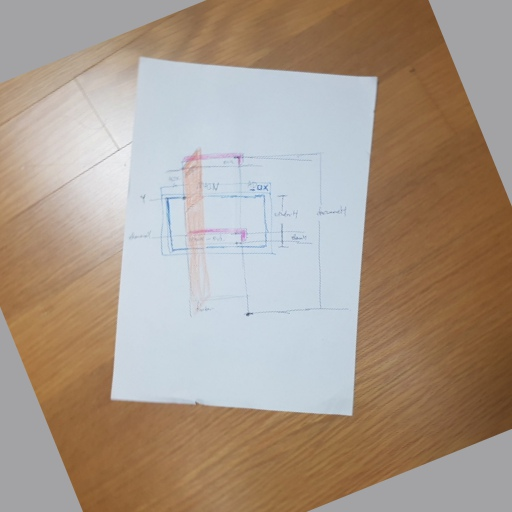Paper_2: (89, 47, 380, 431)
